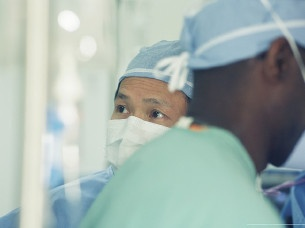Mask: (104, 90, 193, 179)
